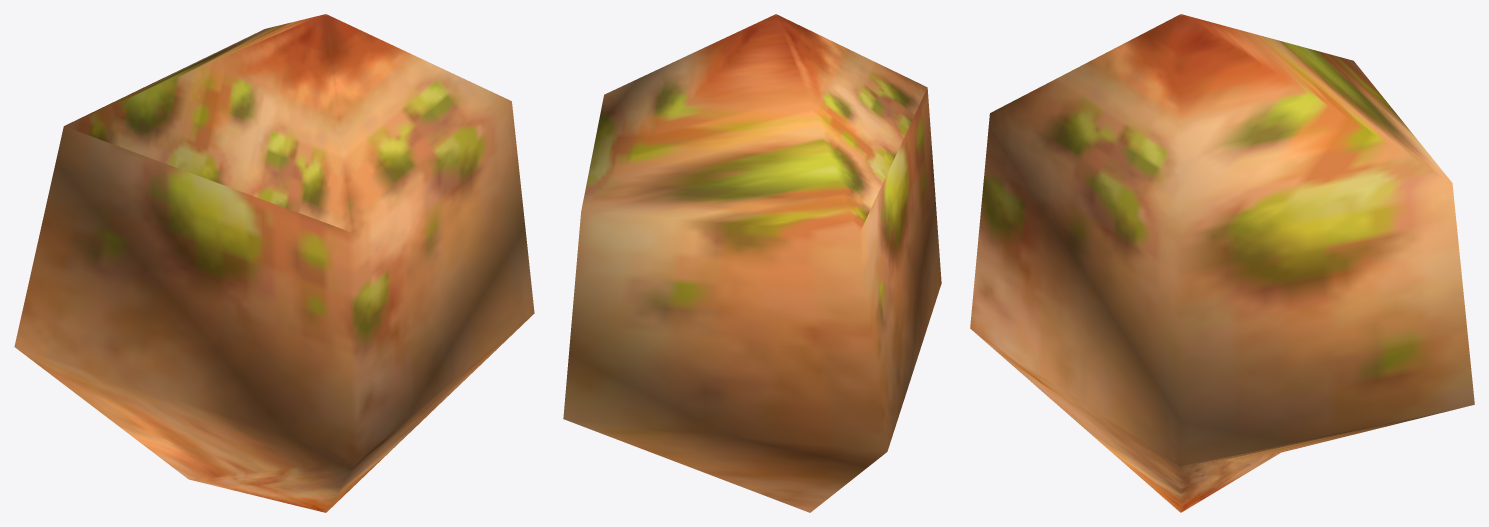
File: edb_food_fruit_melon_l2.fbx
3 renders of one model, left to right at view 1: azimuth 30°, elevation 25°; view 2: azimuth 150°, elevation 25°; view 3: azimuth 270°, elevation 25°, orthographic. The views are drawn at different scales.
Visible parts, largest first — view 1: mesh_node; view 2: mesh_node; view 3: mesh_node.
Part boxes in pixels (box(x1,y1,x2,y2)): mesh_node: box(14, 14, 534, 512); mesh_node: box(563, 14, 941, 512); mesh_node: box(970, 14, 1474, 512).
Bounding box in the file's own units: 0.1854 × 0.2083 × 0.1909.
